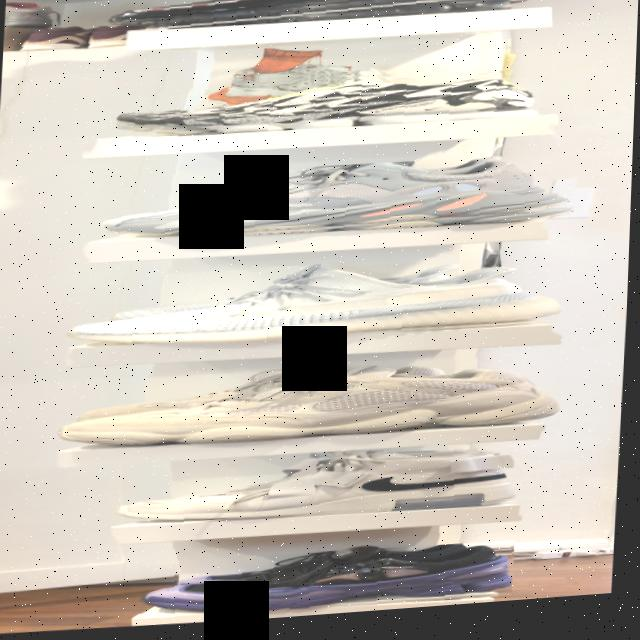shoe: (55, 349, 568, 463), (65, 250, 573, 363), (101, 152, 583, 257), (113, 59, 552, 150), (116, 443, 525, 537), (141, 542, 519, 630), (111, 0, 517, 42)
